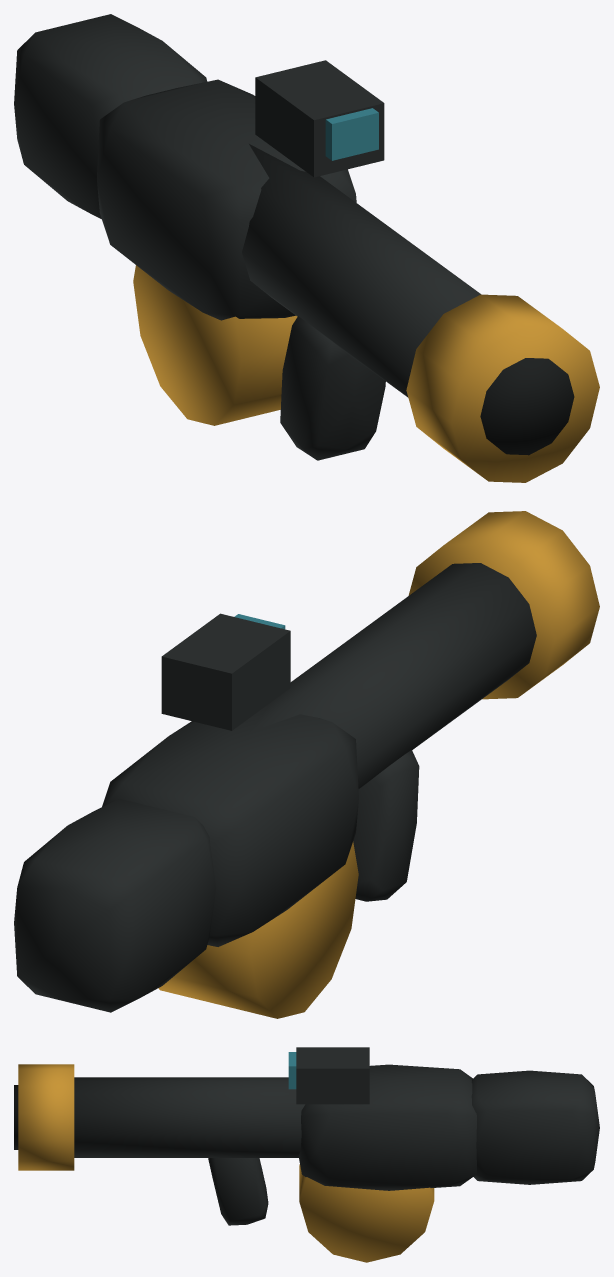
The model's file is Bastion_Grenadier_Weapon.obj.
3 views of the same model, one above another, from view 1: azimuth 30°, elevation 25°; view 2: azimuth 150°, elevation 25°; view 3: azimuth 270°, elevation 25° (orthographic). The views are drawn at different scales.
Visible parts, largest first — view 1: Receiver, LauncherTube, MuzzleRing, Stock, Drum, ForeGrip, Sight, MuzzleCore, SightGlass; view 2: Receiver, Stock, LauncherTube, Drum, MuzzleRing, Sight, ForeGrip; view 3: Receiver, LauncherTube, Stock, Drum, MuzzleRing, Sight, ForeGrip, SightGlass, MuzzleCore.
Boxes of the visible parts, left/top/right/bottom form: Receiver: left=97, top=79, right=356, bottom=320; LauncherTube: left=242, top=144, right=481, bottom=397; MuzzleRing: left=406, top=294, right=599, bottom=482; Stock: left=14, top=14, right=207, bottom=218; Drum: left=133, top=265, right=297, bottom=425; ForeGrip: left=280, top=316, right=385, bottom=460; Sight: left=255, top=60, right=384, bottom=177; MuzzleCore: left=480, top=358, right=574, bottom=455; SightGlass: left=325, top=108, right=378, bottom=160; Receiver: left=102, top=706, right=358, bottom=946; Stock: left=14, top=798, right=216, bottom=1012; LauncherTube: left=249, top=563, right=536, bottom=788; Drum: left=158, top=841, right=358, bottom=1018; MuzzleRing: left=408, top=511, right=599, bottom=699; Sight: left=161, top=613, right=290, bottom=730; ForeGrip: left=353, top=750, right=419, bottom=901; Receiver: left=298, top=1064, right=476, bottom=1190; LauncherTube: left=74, top=1077, right=305, bottom=1157; Stock: left=471, top=1070, right=599, bottom=1184; Drum: left=299, top=1164, right=434, bottom=1262; MuzzleRing: left=18, top=1064, right=74, bottom=1170; Sight: left=296, top=1047, right=369, bottom=1104; ForeGrip: left=208, top=1158, right=268, bottom=1225; SightGlass: left=288, top=1052, right=296, bottom=1089; MuzzleCore: left=14, top=1085, right=18, bottom=1149.
Bounding box in the file's own units: 0.205 × 0.395 × 1.04.
Materials: 1 (1 with a texture image).
